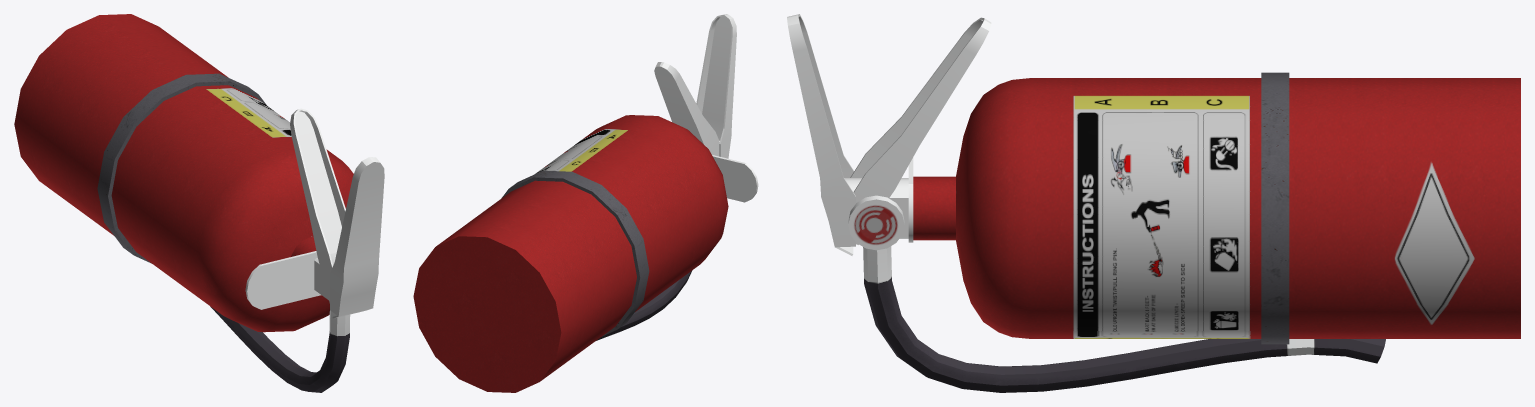
File: FireExtinguisher.glb
3 views of the same model, side by side, from view 1: azimuth 30°, elevation 25°; view 2: azimuth 150°, elevation 25°; view 3: azimuth 270°, elevation 25° (orthographic). The views are drawn at different scales.
Parts seen in each view (by area): view 1: Fire Extinguisher; view 2: Fire Extinguisher; view 3: Fire Extinguisher.
Boxes of the visible parts, <box> form: Fire Extinguisher: <box>14,14,384,392</box>; Fire Extinguisher: <box>413,14,758,392</box>; Fire Extinguisher: <box>787,14,1520,392</box>.
Bounding box in the file's own units: 0.2251 × 0.3444 × 0.6071.
1 material, 1 textured.
